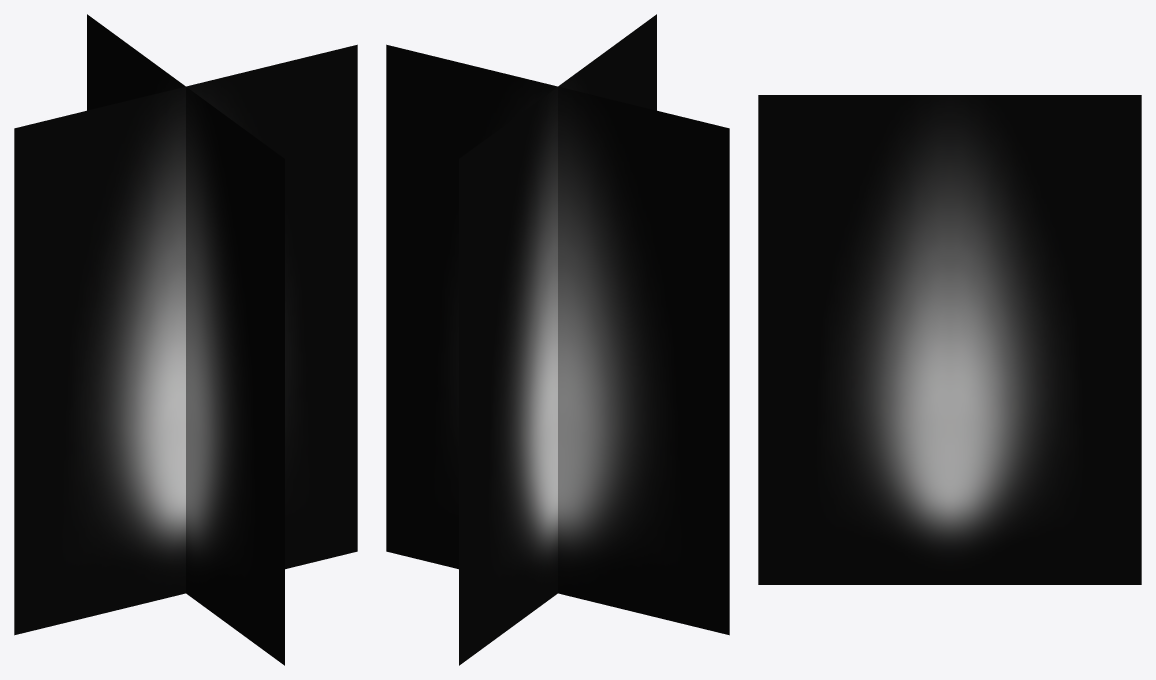
File: plan_cross.fbx
3 views of the same model, side by side, from view 1: azimuth 30°, elevation 25°; view 2: azimuth 150°, elevation 25°; view 3: azimuth 270°, elevation 25° (orthographic). The views are drawn at different scales.
Parts seen in each view (by area): view 1: Plane002; view 2: Plane002; view 3: Plane002.
Boxes of the visible parts, left/top/right/bottom form: Plane002: left=14, top=14, right=357, bottom=665; Plane002: left=386, top=14, right=729, bottom=665; Plane002: left=758, top=95, right=1141, bottom=584.
Bounding box in the file's own units: 15.84 × 22.35 × 15.84.
1 material, 1 textured.
